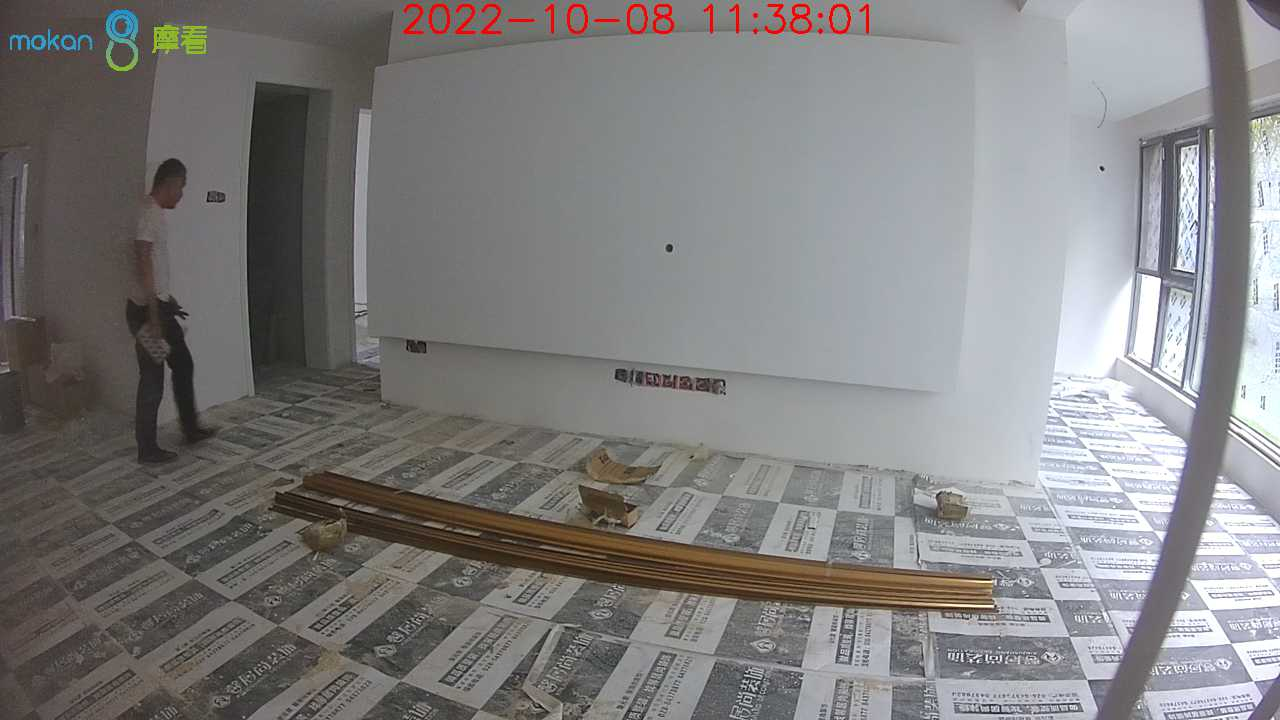people: (126, 159, 214, 464)
window: (1120, 97, 1280, 457)
